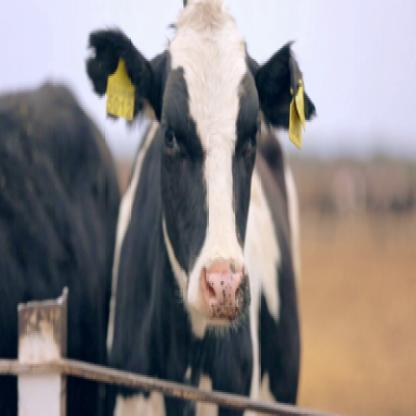lower: (207, 315, 233, 327)
mouth: (189, 255, 251, 332)
upper: (220, 289, 233, 301)
